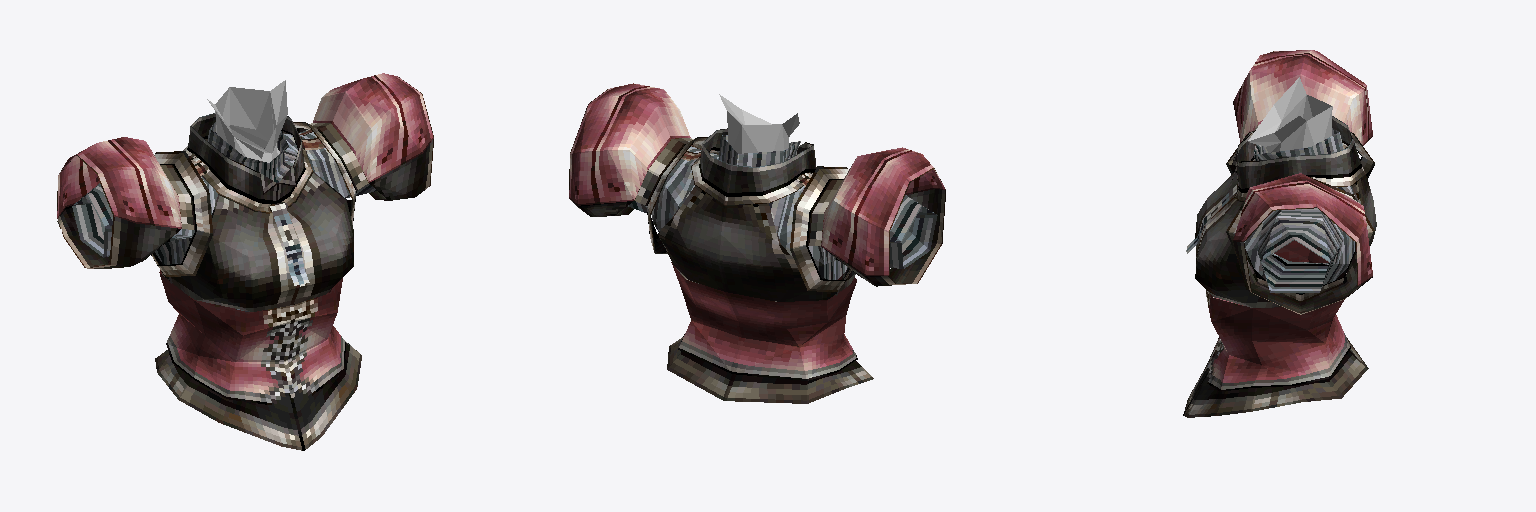
3 views of the same model, side by side, from view 1: azimuth 30°, elevation 25°; view 2: azimuth 150°, elevation 25°; view 3: azimuth 270°, elevation 25° (orthographic).
Parts seen in each view (by area): view 1: mesh00; view 2: mesh00; view 3: mesh00.
Part boxes in pixels (x1,y1,x2,y2): mesh00: (57, 73, 433, 450); mesh00: (569, 83, 945, 403); mesh00: (1183, 50, 1376, 417).
Size of the model in its own units: 64 by 59.85 by 32.94.
2 materials, 1 textured.